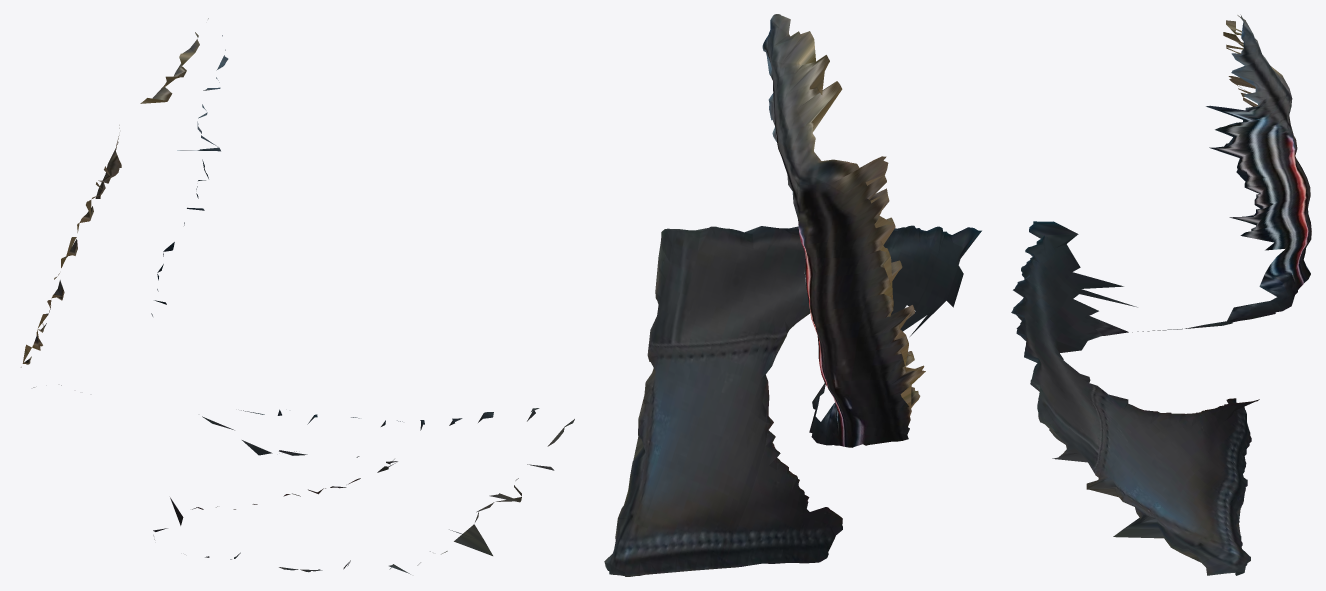
Rendered from observed-surface.glb.
3 renders of one model, left to right at view 1: azimuth 30°, elevation 25°; view 2: azimuth 150°, elevation 25°; view 3: azimuth 270°, elevation 25°, orthographic. The views are drawn at different scales.
Parts seen in each view (by area): view 1: geometry_0; view 2: geometry_0; view 3: geometry_0.
Part boxes in pixels (x1=…): geometry_0: x1=21, y1=18, x2=574, y2=574; geometry_0: x1=604, y1=14, x2=981, y2=576; geometry_0: x1=1011, y1=14, x2=1311, y2=575.
Bounding box in the file's own units: 0.5247 × 0.7435 × 0.4103.
1 material, 1 textured.
